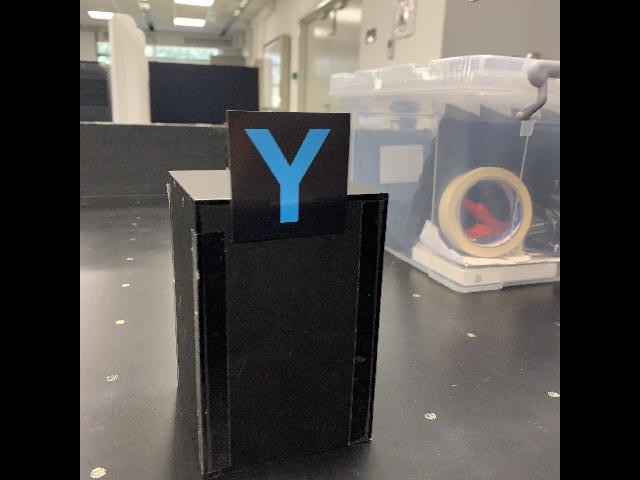alphabet_y: (223, 107, 352, 247)
